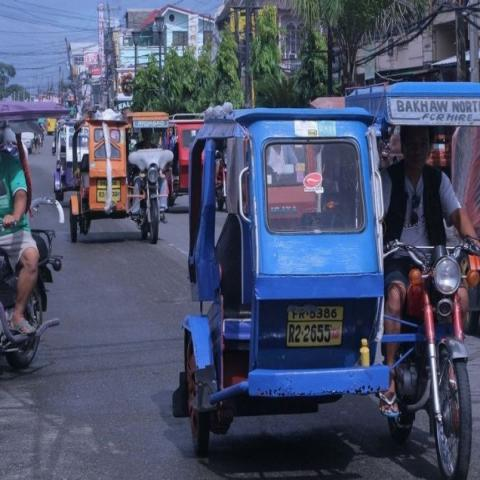motorcycle: (190, 80, 480, 479), (74, 118, 166, 238), (0, 223, 53, 395)
